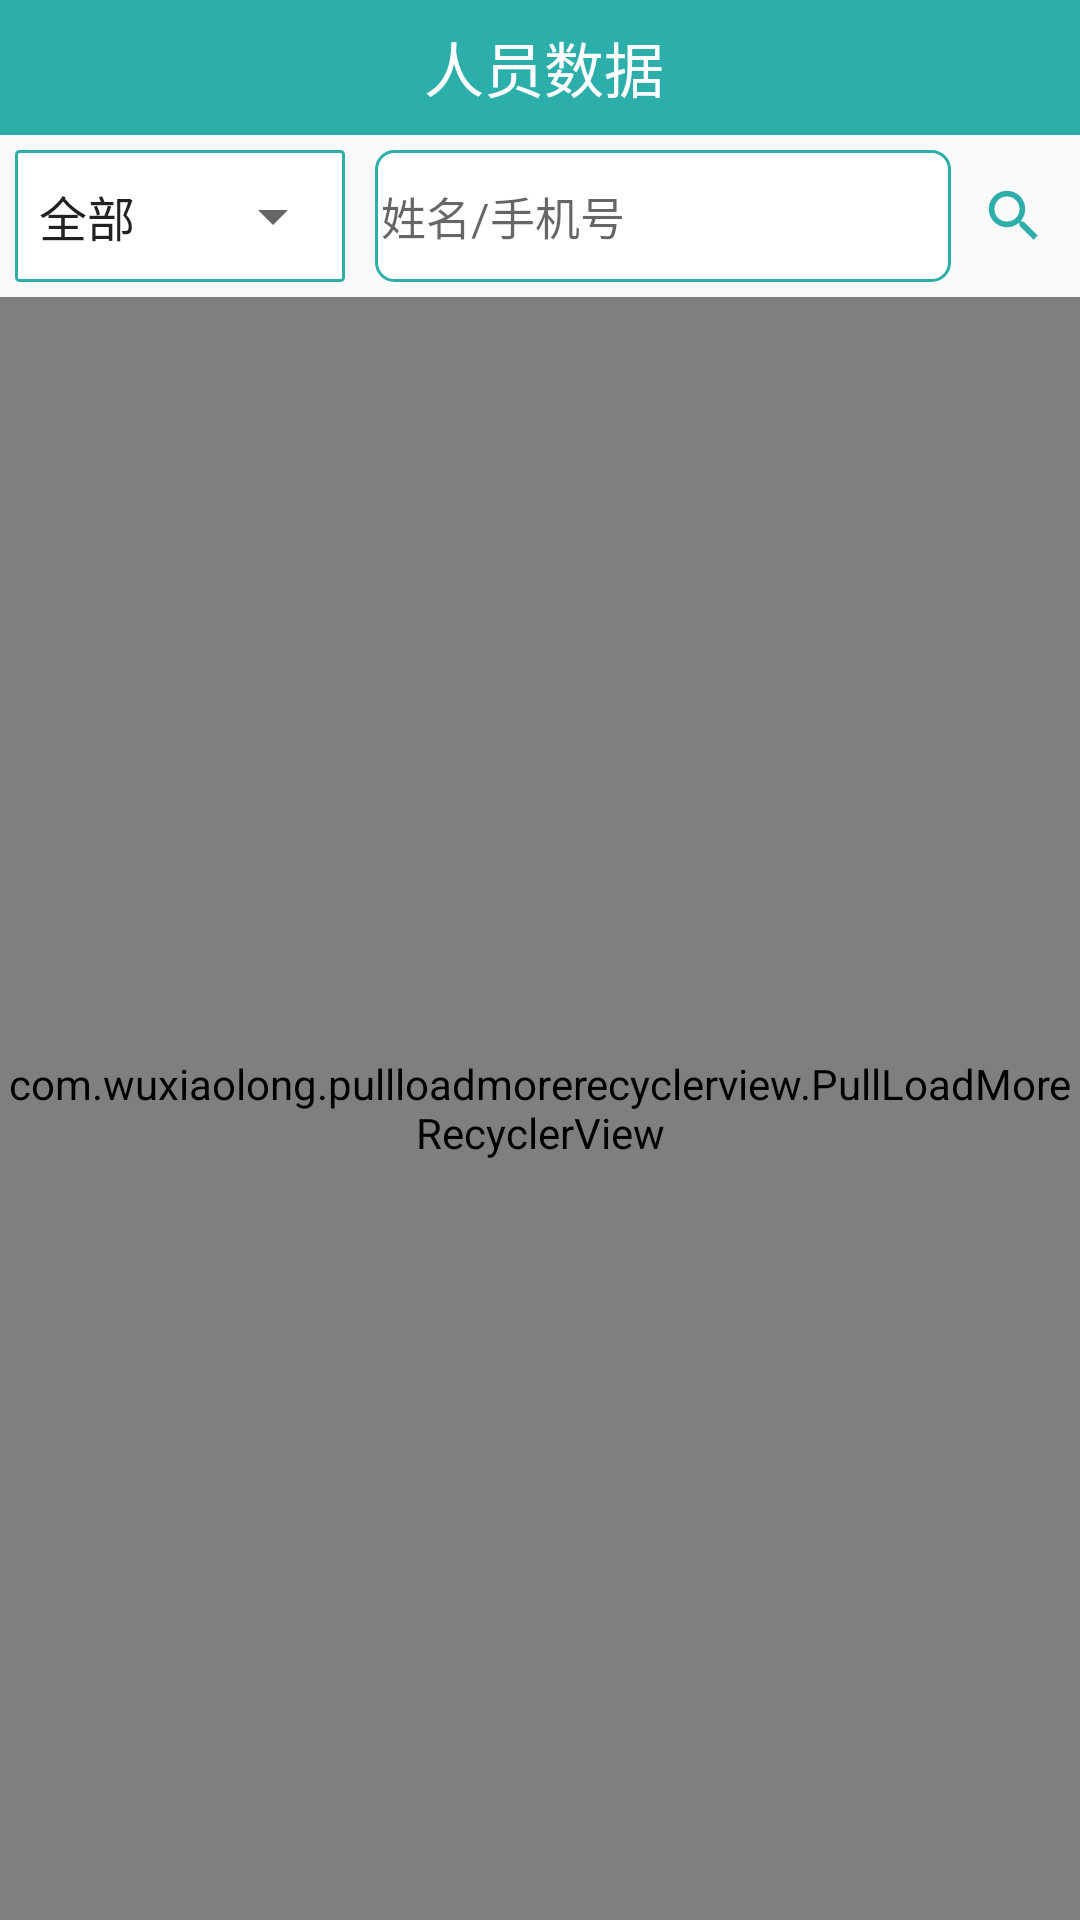

Where icons sit on this 1080×1920 app screen, as [left=x1, top=y1, right=x2, bottom=y2]:
search: [left=988, top=190, right=1038, bottom=240]
